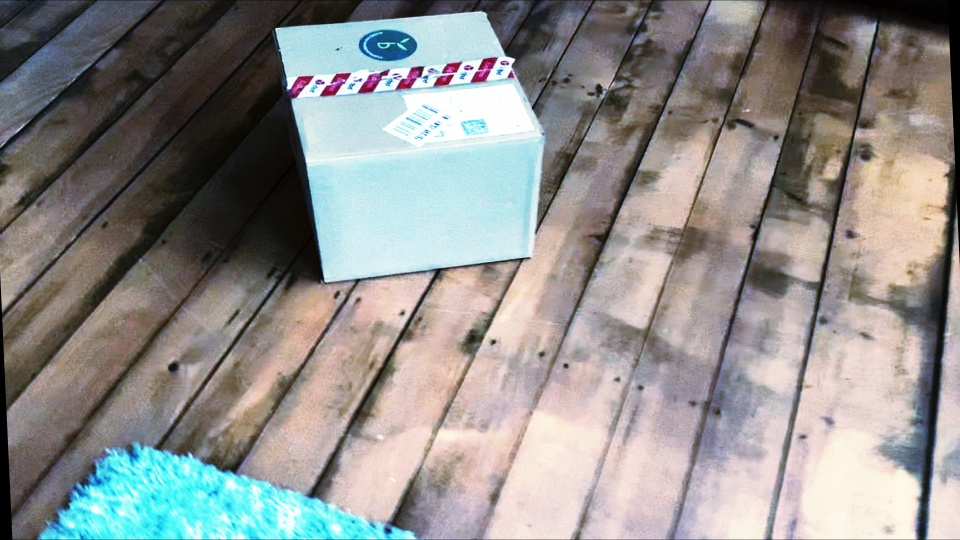good-parcel: (268, 15, 552, 284)
